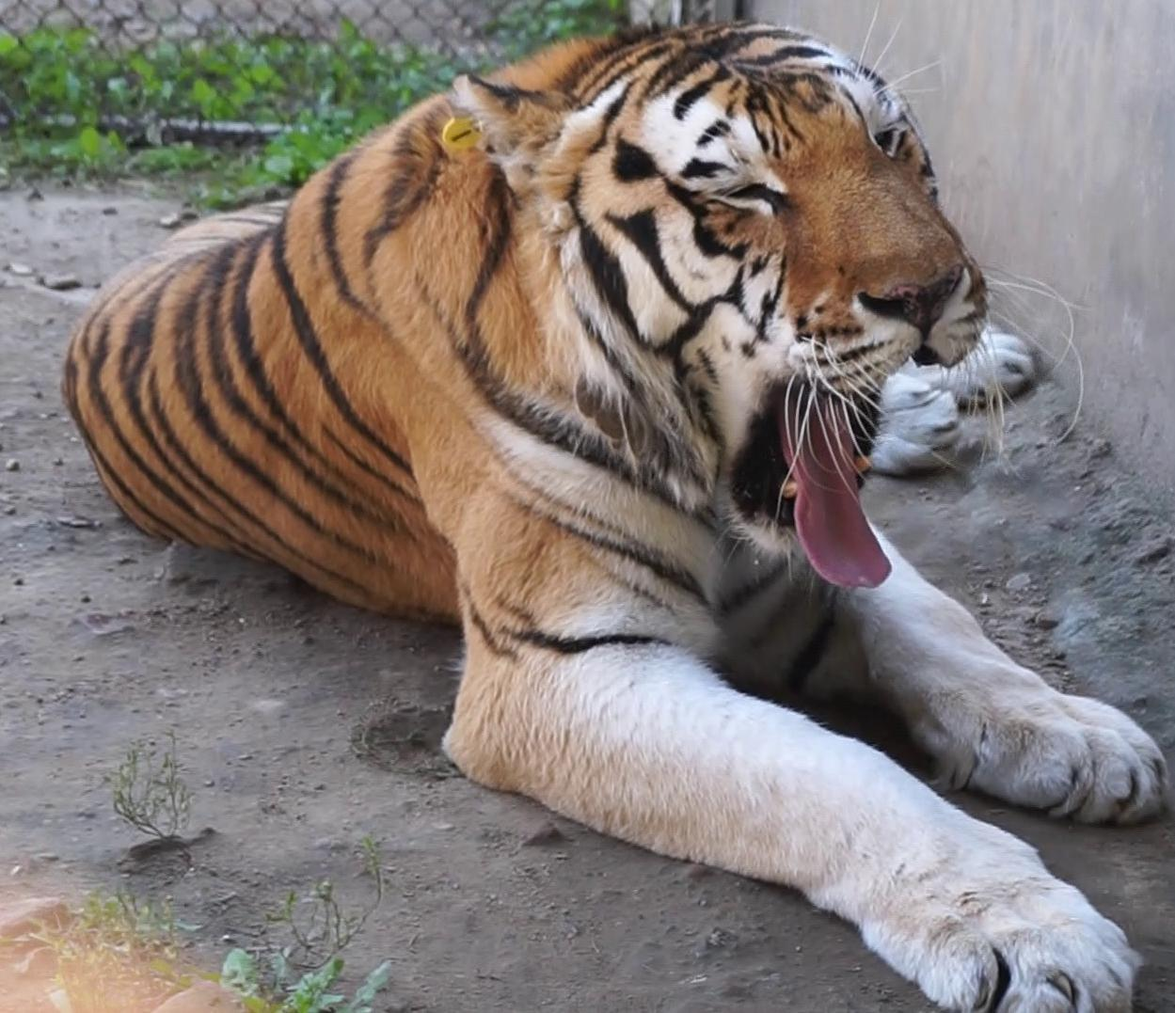tiger: (64, 24, 1166, 1012)
